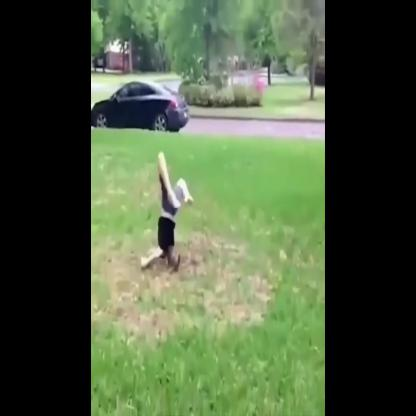Fall_Down: (138, 148, 195, 277)
